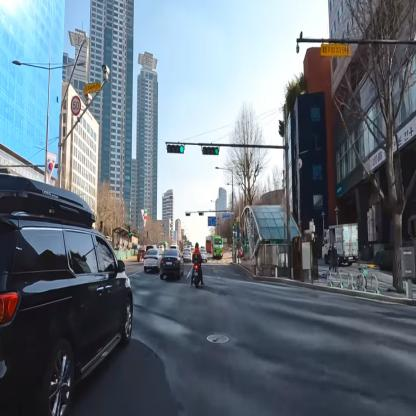Green: (166, 141, 185, 156), (202, 145, 220, 157)
